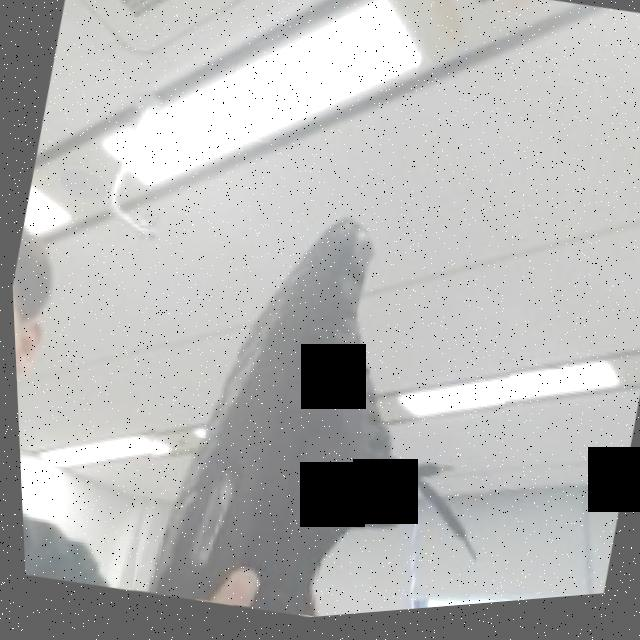shoe: (96, 153, 547, 634)
